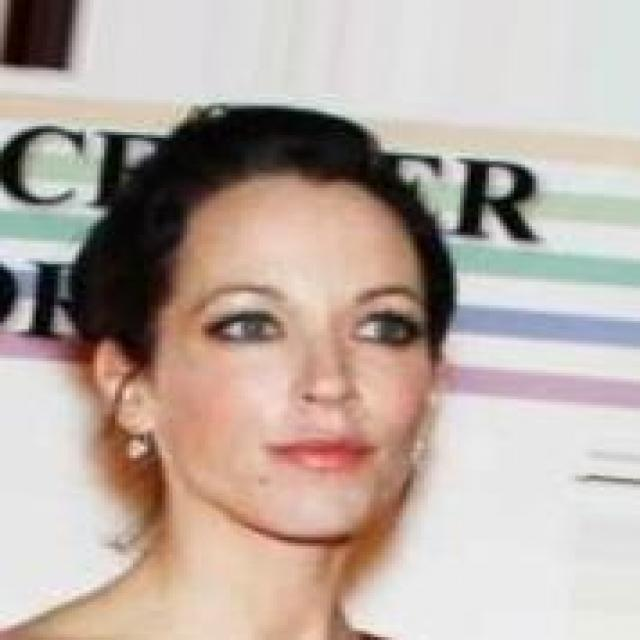nomask: (104, 123, 482, 602)
